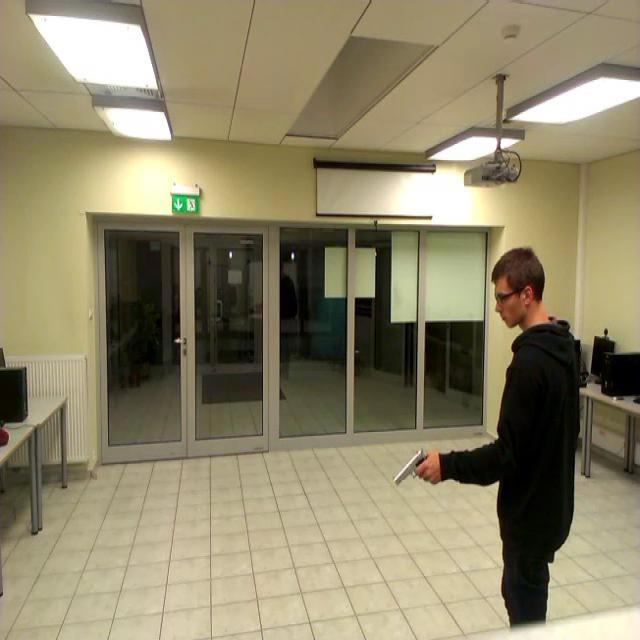weapon: (389, 453, 436, 487)
